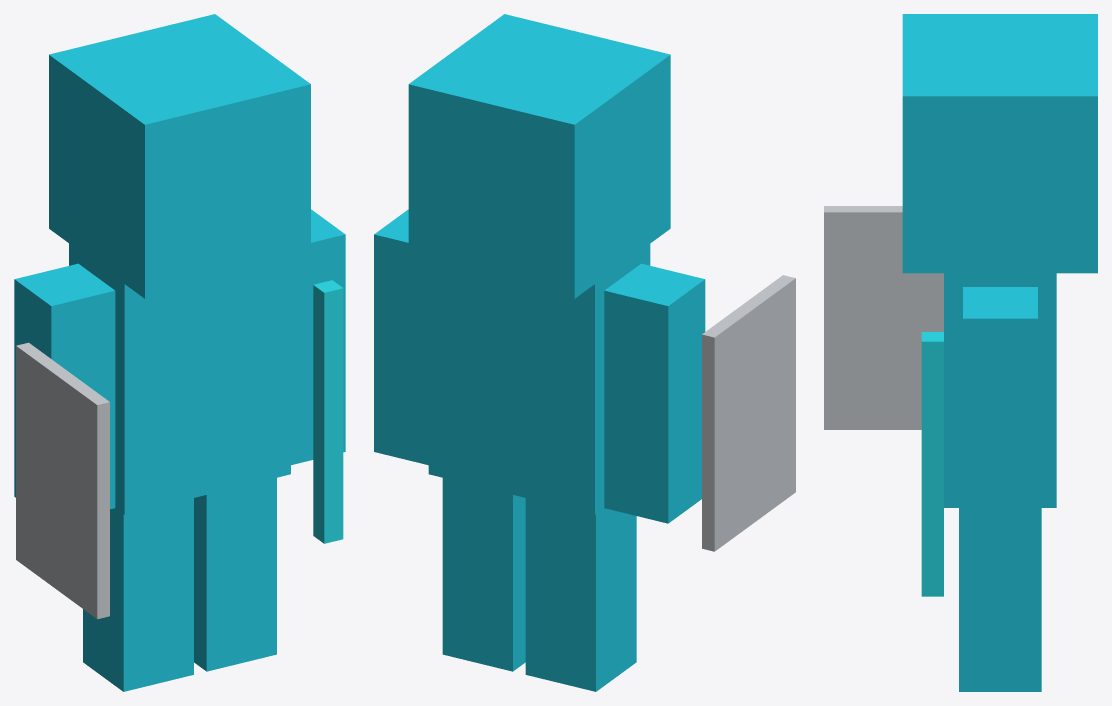
Rendered from duelist_bot.obj.
3 views of the same model, side by side, from view 1: azimuth 30°, elevation 25°; view 2: azimuth 150°, elevation 25°; view 3: azimuth 270°, elevation 25° (orthographic).
Bounding box in the file's own units: 0.99 × 1.76 × 0.73.
